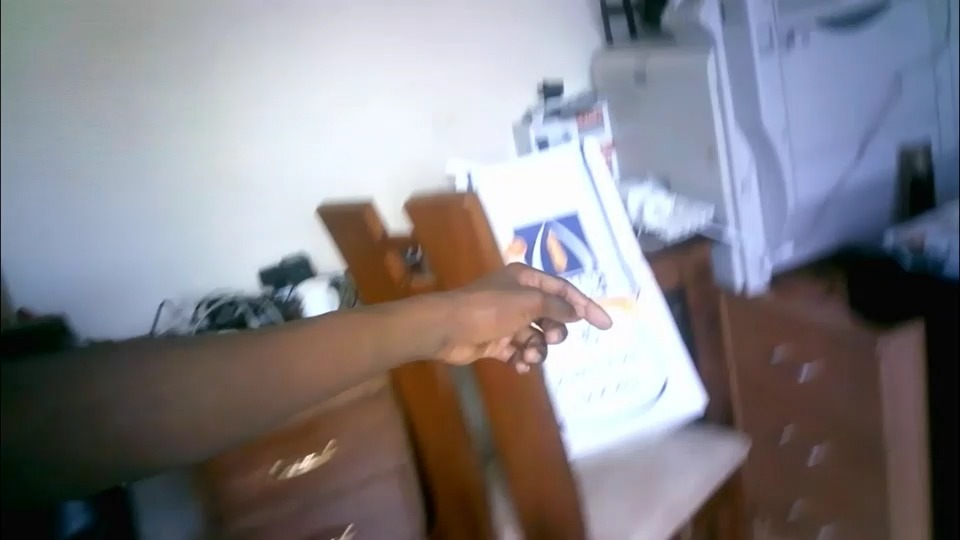wheat_flour_blue_label: (469, 136, 710, 461)
